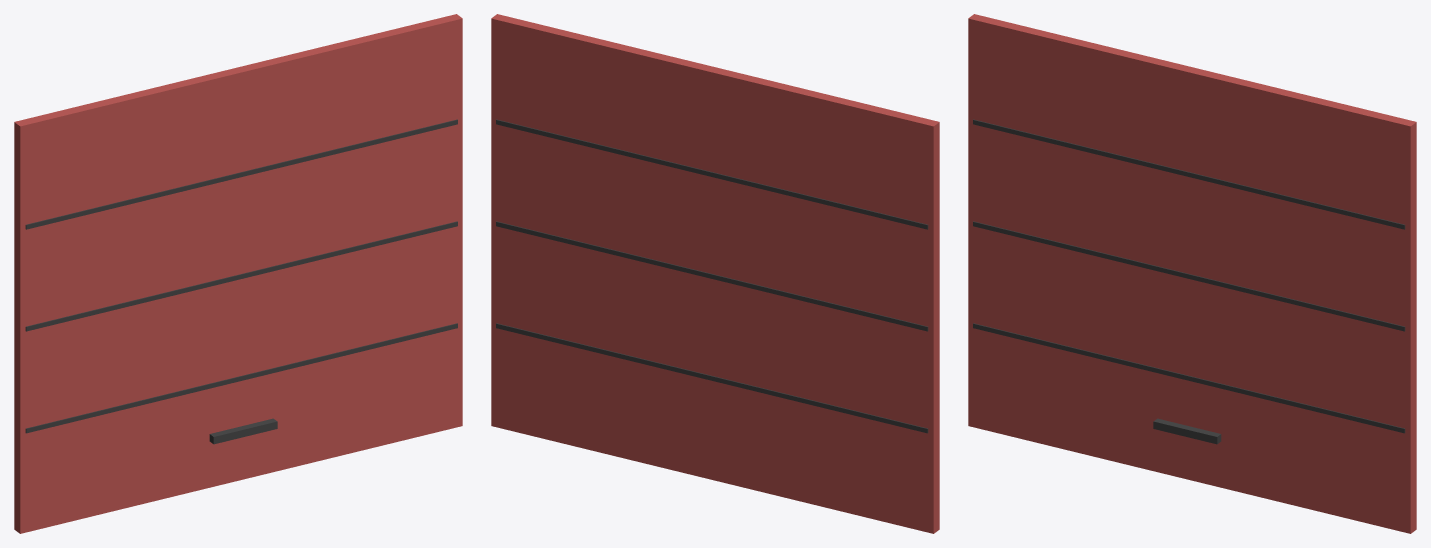
File: mlo_garage_door_red.glb
3 renders of one model, left to right at view 1: azimuth 30°, elevation 25°; view 2: azimuth 150°, elevation 25°; view 3: azimuth 330°, elevation 25°, orthographic.
Visible parts, largest first — view 1: Garage_Door_Red; view 2: Garage_Door_Red; view 3: Garage_Door_Red.
Part boxes in pixels (<box>): Garage_Door_Red: <box>14,14,462,533</box>; Garage_Door_Red: <box>491,14,939,533</box>; Garage_Door_Red: <box>968,14,1416,533</box>.
Size of the model in its own units: 2.5 by 2.2 by 0.106.
